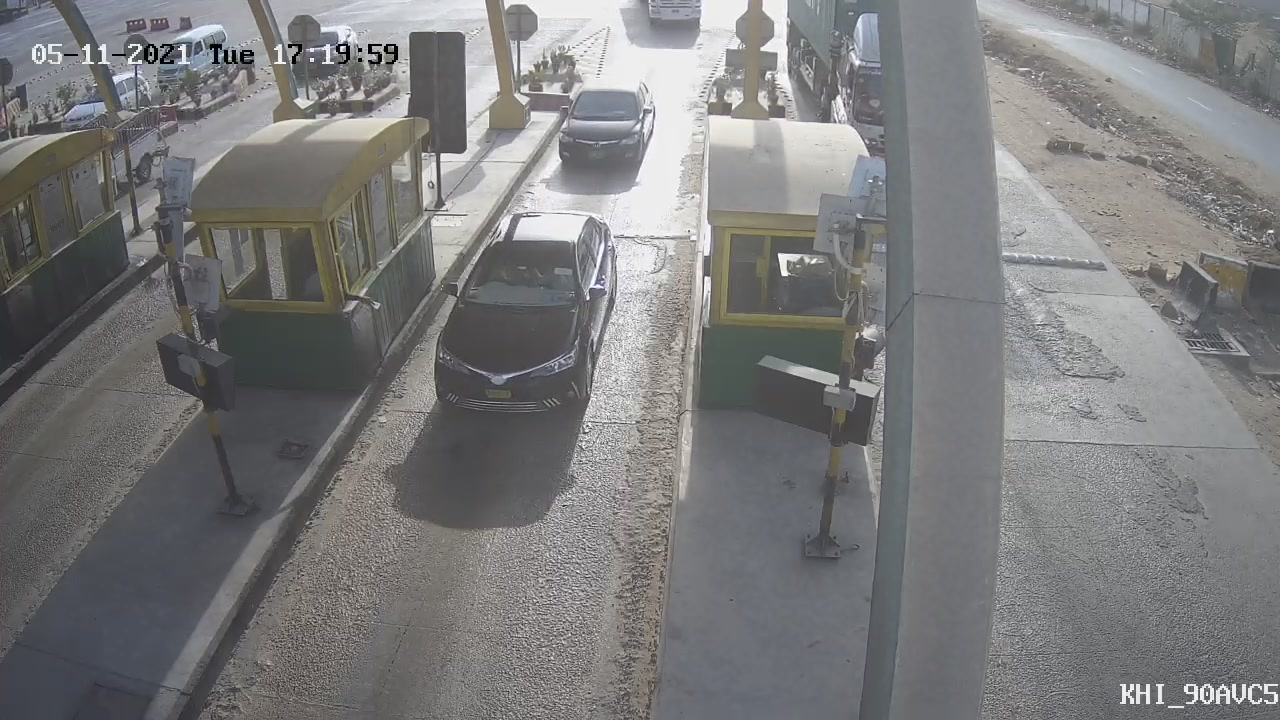F1: (404, 188, 643, 442), (530, 64, 676, 187)
